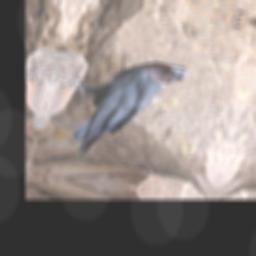Crow: (32, 48, 191, 169)
